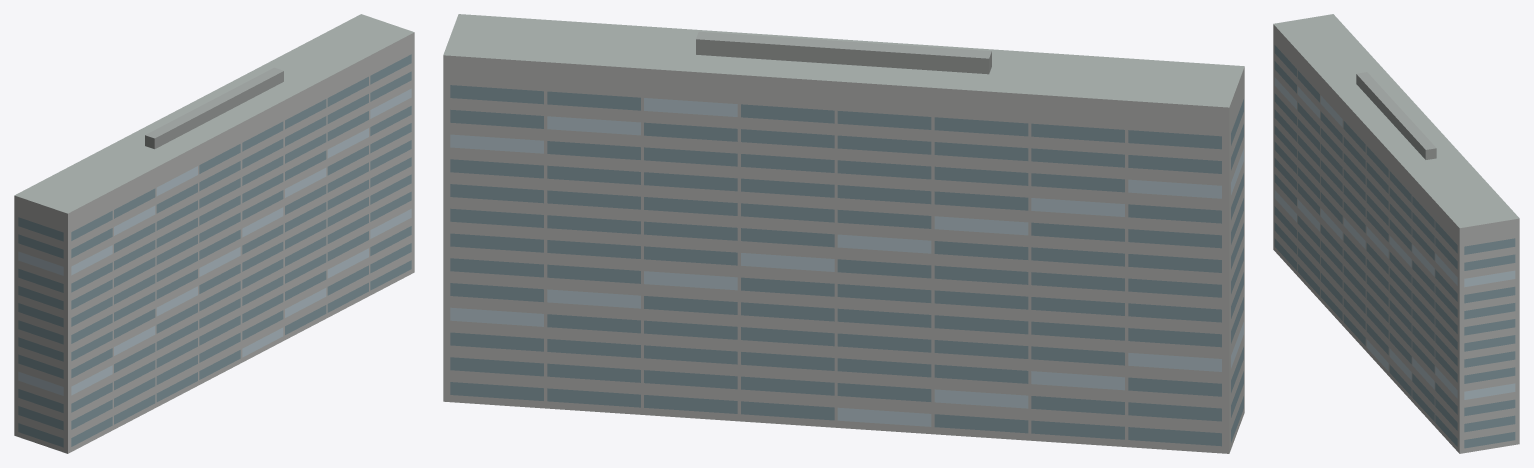
File: fallback-daechi-eunma-10.glb
3 renders of one model, left to right at view 1: azimuth 30°, elevation 25°; view 2: azimuth 150°, elevation 25°; view 3: azimuth 270°, elevation 25°, orthographic. The views are drawn at different scales.
Parts seen in each view (by area): view 1: fallback-daechi-eunma-10; view 2: fallback-daechi-eunma-10; view 3: fallback-daechi-eunma-10.
Boxes of the visible parts, x1=… form: fallback-daechi-eunma-10: x1=14, y1=14, x2=414, y2=453; fallback-daechi-eunma-10: x1=443, y1=14, x2=1244, y2=453; fallback-daechi-eunma-10: x1=1273, y1=14, x2=1519, y2=453.
Bounding box in the file's own units: 86.94 × 44.62 × 42.29.
